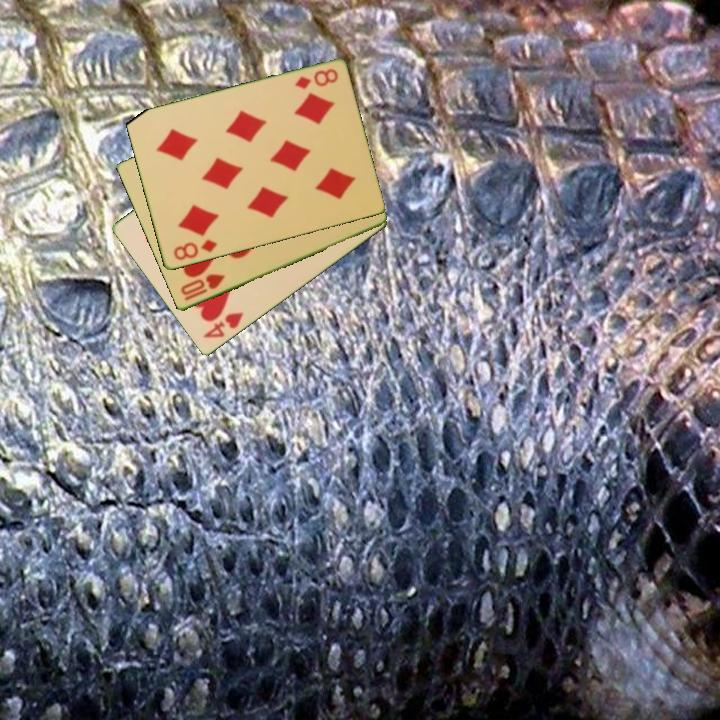10h: (176, 271, 228, 304)
4h: (200, 309, 246, 341)
8d: (170, 236, 220, 263), (291, 65, 341, 92)
